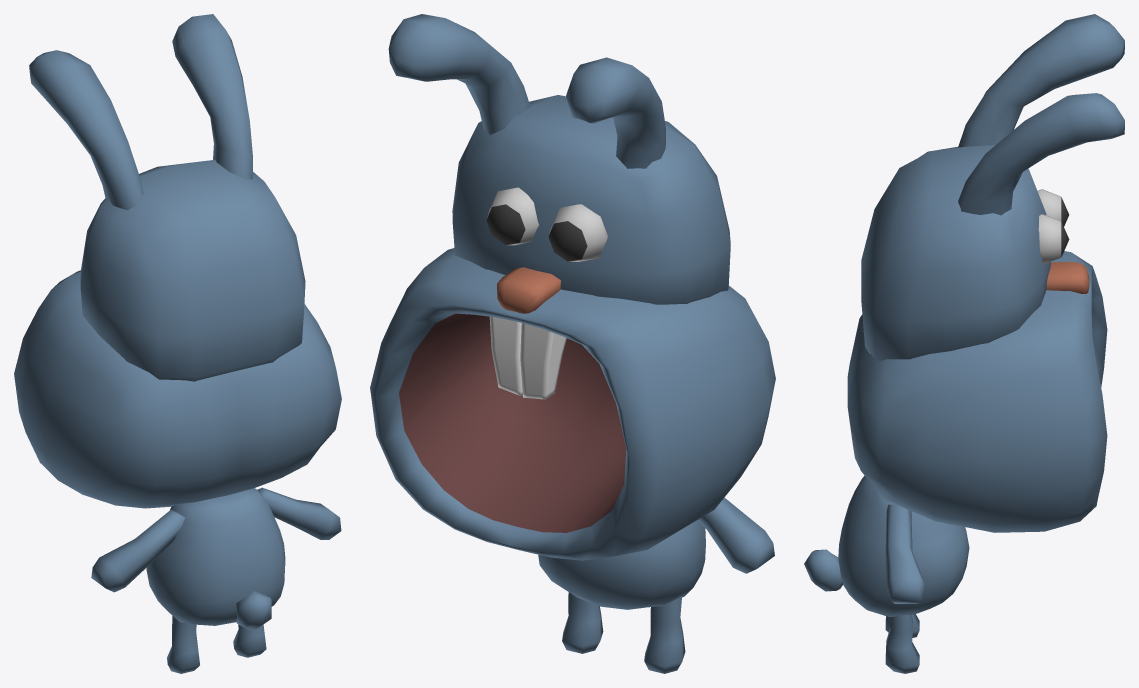
The model's file is 8 Rabbit.FBX.
3 renders of one model, left to right at view 1: azimuth 30°, elevation 25°; view 2: azimuth 150°, elevation 25°; view 3: azimuth 270°, elevation 25°, orthographic. The views are drawn at different scales.
Parts seen in each view (by area): view 1: Box011, Box012, Box015, Box014, Ear_Right, Box017, Box103, Box016, Box019, Box018; view 2: Box011, Box012, Ear_Right, Box015, Box014, Box023, Box017, Sphere006, Box016, Sphere005, Box013, Box018; view 3: Box011, Box012, Box015, Box014, Ear_Right, Box103, Box018, Box019, Box013, Sphere005, Sphere006.
Boxes of the visible parts, x1,y1,x2,y2 form: Box011: (14,270,341,508); Box012: (80,160,305,381); Box015: (146,488,285,625); Box014: (29,50,143,210); Ear_Right: (172,14,252,179); Box017: (91,510,184,592); Box103: (257,487,341,539); Box016: (167,616,199,673); Box019: (236,591,271,630); Box018: (233,624,266,657); Box011: (370,248,775,560); Box012: (452,95,730,304); Ear_Right: (388,14,530,135); Box015: (538,520,705,609); Box014: (566,57,665,168); Box023: (489,316,566,399); Box017: (697,497,774,573); Sphere006: (548,204,607,261); Box016: (644,596,685,673); Sphere005: (486,187,538,245); Box013: (497,267,560,313); Box018: (562,592,603,653); Box011: (847,251,1107,532); Box012: (861,144,1050,362); Box015: (838,475,969,616); Box014: (958,14,1124,147); Ear_Right: (958,93,1124,215); Box103: (885,504,925,603); Box018: (885,615,919,673); Box019: (804,549,842,591); Box013: (1046,261,1089,293); Sphere005: (1038,214,1069,264); Sphere006: (1037,189,1069,226).
Size of the model in its own units: 80.56 by 158 by 77.54.
